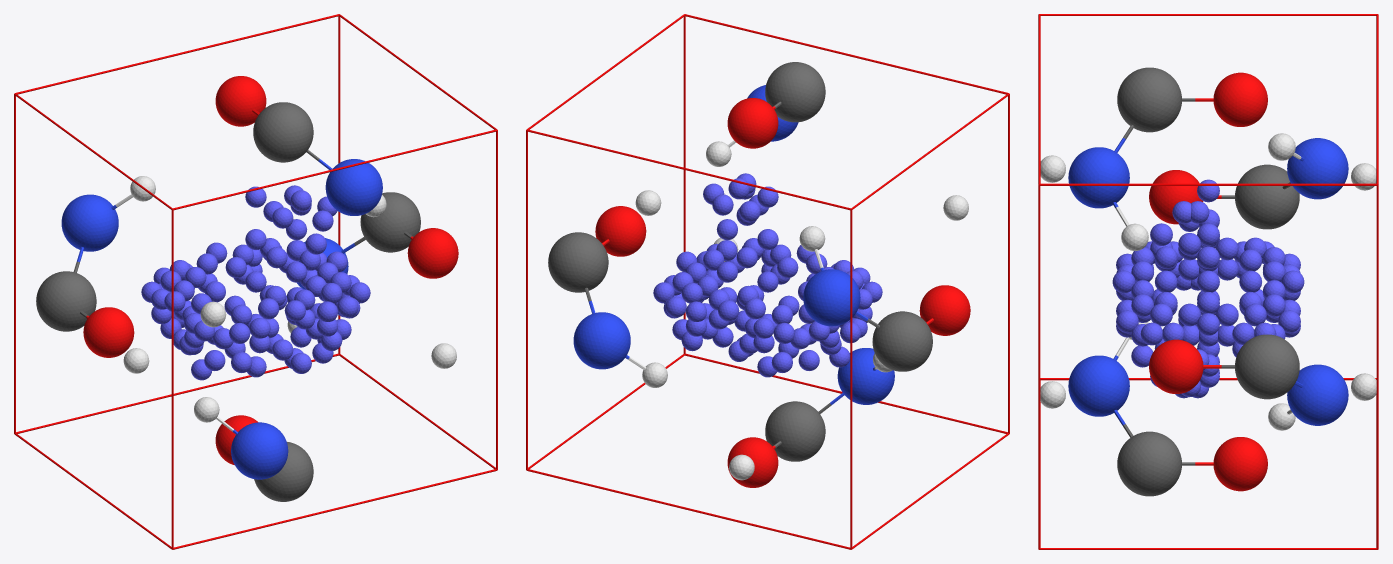
Rendered from 006_auto_clip_sphere_seeds.obj.
3 views of the same model, side by side, from view 1: azimuth 30°, elevation 25°; view 2: azimuth 150°, elevation 25°; view 3: azimuth 270°, elevation 25° (orthographic). The views are drawn at different scales.
Visible parts, largest first — view 1: ball_17, ball_1, ball_6, ball_5, ball_8, ball_19, ball_20, ball_3, ball_18, ball_2, stick_31, stick_32 (+6 smaller); view 2: ball_19, ball_1, ball_2, ball_17, ball_7, ball_5, ball_6, ball_18, ball_20, ball_3, ball_4, stick_26 (+7 smaller); view 3: ball_19, ball_2, ball_17, ball_1, ball_6, ball_7, ball_8, ball_5, ball_4, ball_18, ball_20, ball_3 (+28 smaller).
Part boxes in pixels (x1=…): ball_17: x1=253, y1=102, x2=313, y2=162; ball_1: x1=36, y1=271, x2=96, y2=331; ball_6: x1=231, y1=422, x2=288, y2=479; ball_5: x1=61, y1=194, x2=118, y2=251; ball_8: x1=325, y1=159, x2=382, y2=215; ball_19: x1=360, y1=192, x2=420, y2=252; ball_20: x1=407, y1=228, x2=458, y2=278; ball_3: x1=83, y1=307, x2=134, y2=357; ball_18: x1=215, y1=76, x2=266, y2=126; ball_2: x1=254, y1=442, x2=313, y2=501; stick_31: x1=171, y1=209, x2=173, y2=549; stick_32: x1=172, y1=469, x2=497, y2=549; ball_19: x1=548, y1=232, x2=608, y2=292; ball_1: x1=872, y1=311, x2=932, y2=371; ball_2: x1=765, y1=401, x2=825, y2=461; ball_17: x1=765, y1=62, x2=825, y2=122; ball_7: x1=573, y1=312, x2=630, y2=369; ball_5: x1=803, y1=269, x2=860, y2=326; ball_6: x1=837, y1=348, x2=894, y2=404; ball_18: x1=727, y1=98, x2=778, y2=148; ball_20: x1=595, y1=206, x2=646, y2=256; ball_3: x1=919, y1=285, x2=970, y2=335; ball_4: x1=727, y1=437, x2=778, y2=487; stick_26: x1=850, y1=209, x2=852, y2=549; ball_19: x1=1235, y1=334, x2=1299, y2=399; ball_2: x1=1117, y1=431, x2=1181, y2=496; ball_17: x1=1117, y1=67, x2=1181, y2=132; ball_1: x1=1235, y1=164, x2=1299, y2=229; ball_6: x1=1068, y1=355, x2=1129, y2=416; ball_7: x1=1287, y1=364, x2=1348, y2=425; ball_8: x1=1068, y1=147, x2=1129, y2=208; ball_5: x1=1287, y1=138, x2=1348, y2=199; ball_4: x1=1213, y1=437, x2=1267, y2=491; ball_18: x1=1213, y1=72, x2=1267, y2=126; ball_20: x1=1149, y1=339, x2=1203, y2=393; ball_3: x1=1149, y1=170, x2=1203, y2=224.
Bounding box in the file's own units: 12.22 × 12.22 × 8.91.
